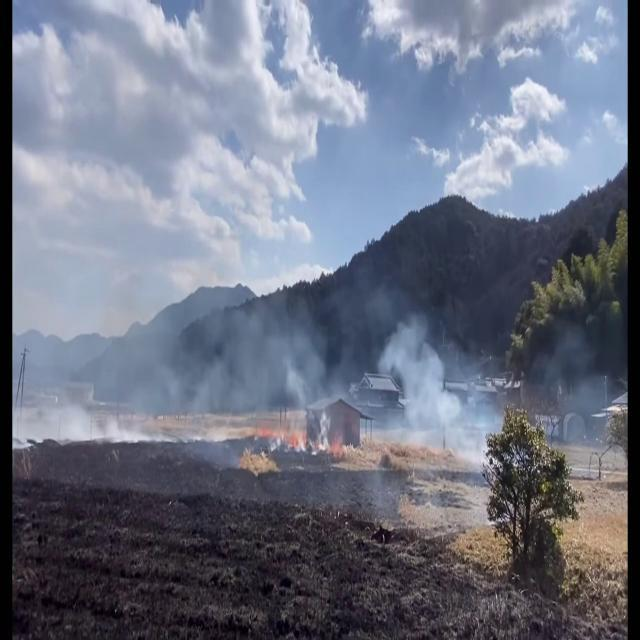Fire: (237, 441, 279, 477)
Smoke: (346, 277, 624, 522), (55, 258, 338, 457)
